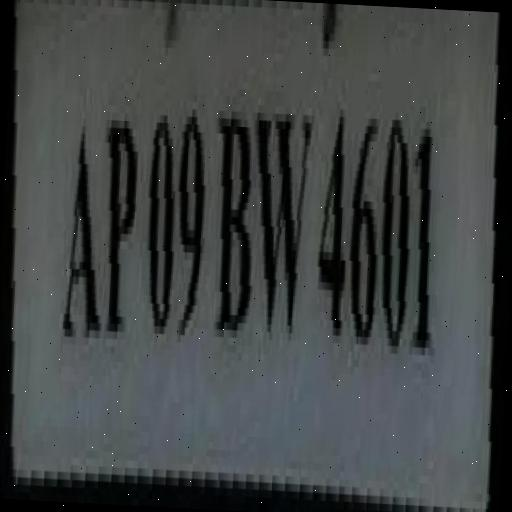number plate: (5, 0, 512, 495)
